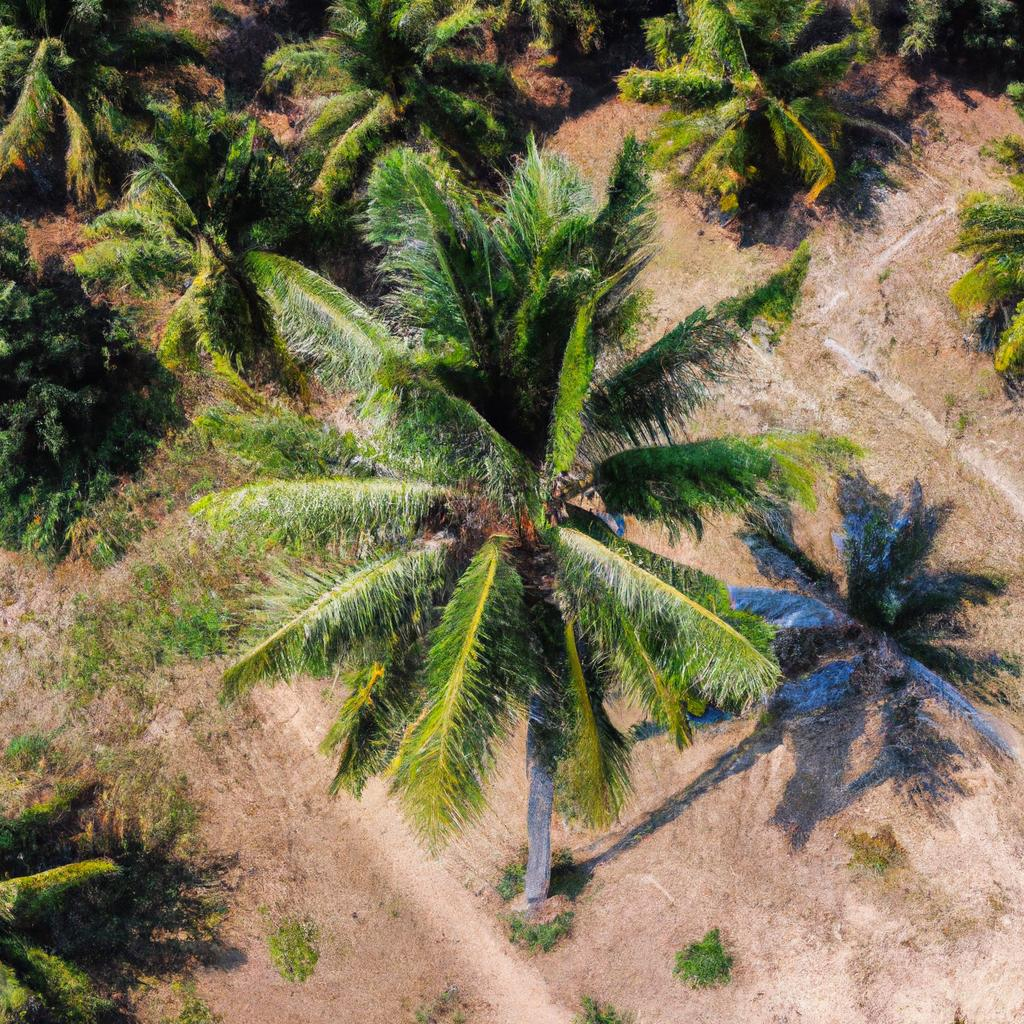coconut_tree: (200, 143, 851, 878)
